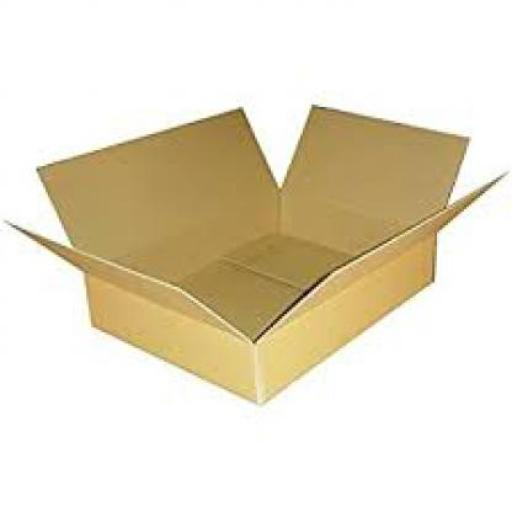cardboard: (2, 102, 505, 403)
